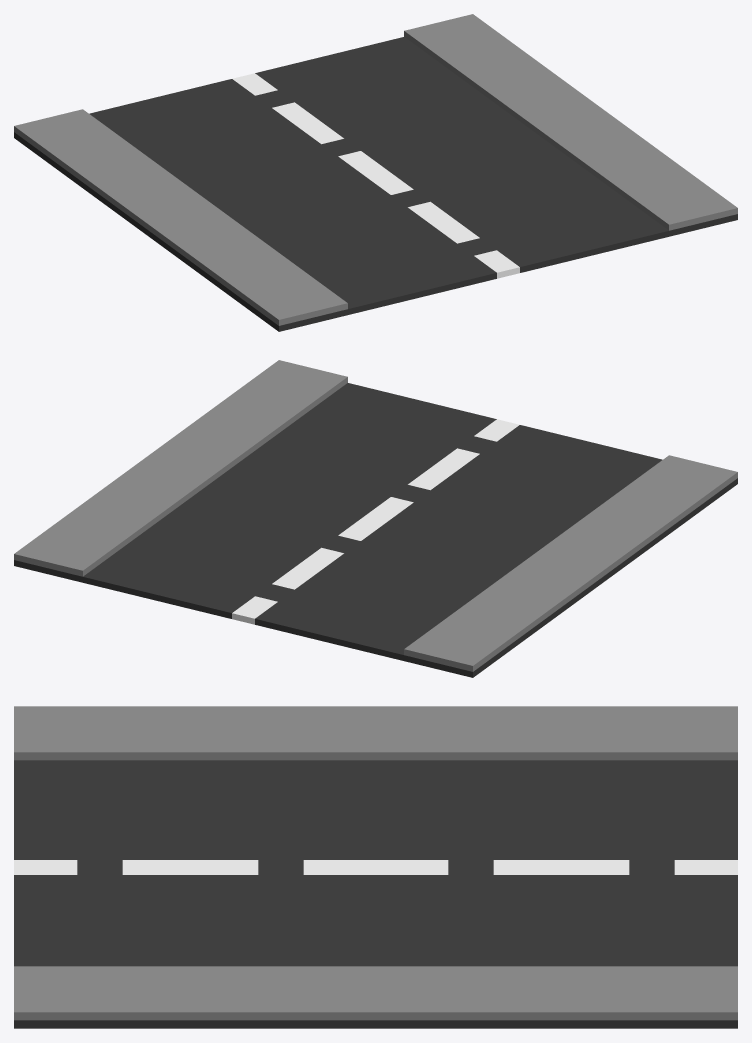
Rendered from CallecitaRecta.obj.
3 renders of one model, top to bottom at view 1: azimuth 30°, elevation 25°; view 2: azimuth 150°, elevation 25°; view 3: azimuth 270°, elevation 25°, orthographic. The views are drawn at different scales.
Size of the model in its own units: 8 by 0.2 by 8.
Materials: 1 (1 with a texture image).
